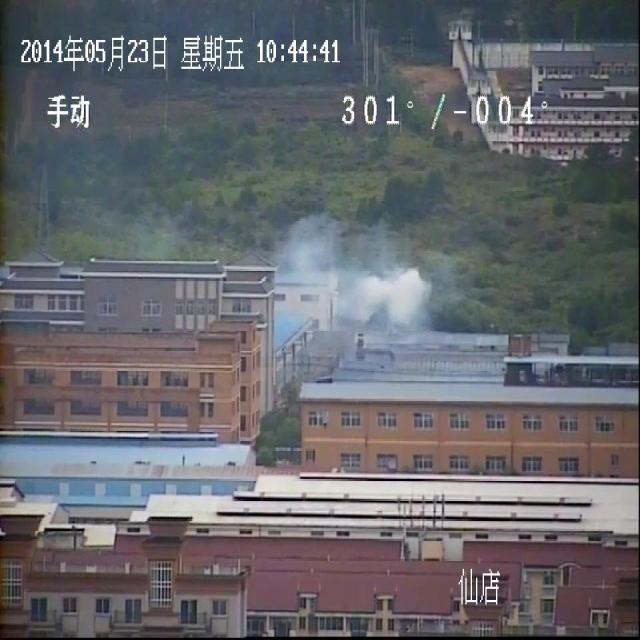smoke: (276, 214, 433, 330)
